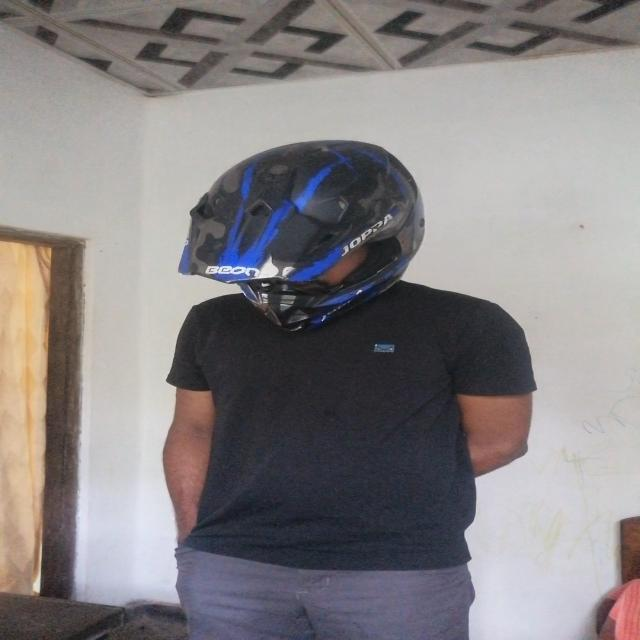Helmet_Wearer: (154, 134, 456, 344)
Person: (155, 139, 535, 640)
